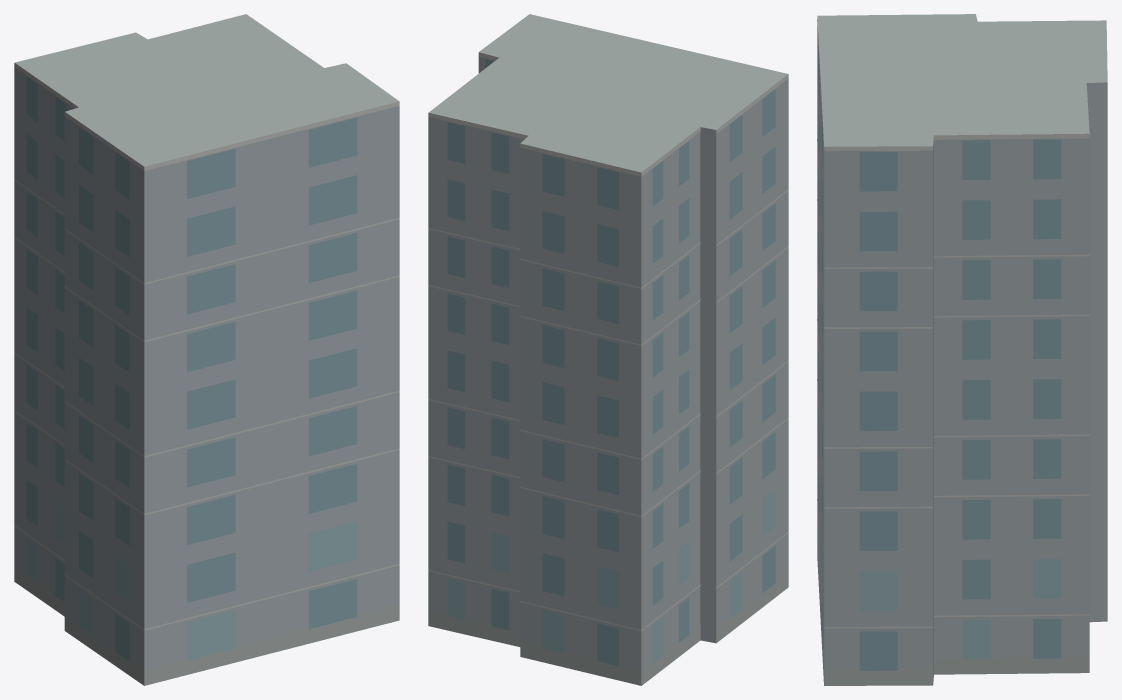
File: survey-upis-32676726.glb
3 views of the same model, side by side, from view 1: azimuth 30°, elevation 25°; view 2: azimuth 150°, elevation 25°; view 3: azimuth 270°, elevation 25° (orthographic). The views are drawn at different scales.
Parts seen in each view (by area): view 1: survey-upis-32676726.tmp; view 2: survey-upis-32676726.tmp; view 3: survey-upis-32676726.tmp.
Part boxes in pixels (x1,y1,x2,y2): survey-upis-32676726.tmp: (14, 14, 399, 685); survey-upis-32676726.tmp: (428, 14, 788, 685); survey-upis-32676726.tmp: (817, 14, 1107, 685).
Size of the model in its own units: 15.38 by 29.1 by 14.23.
